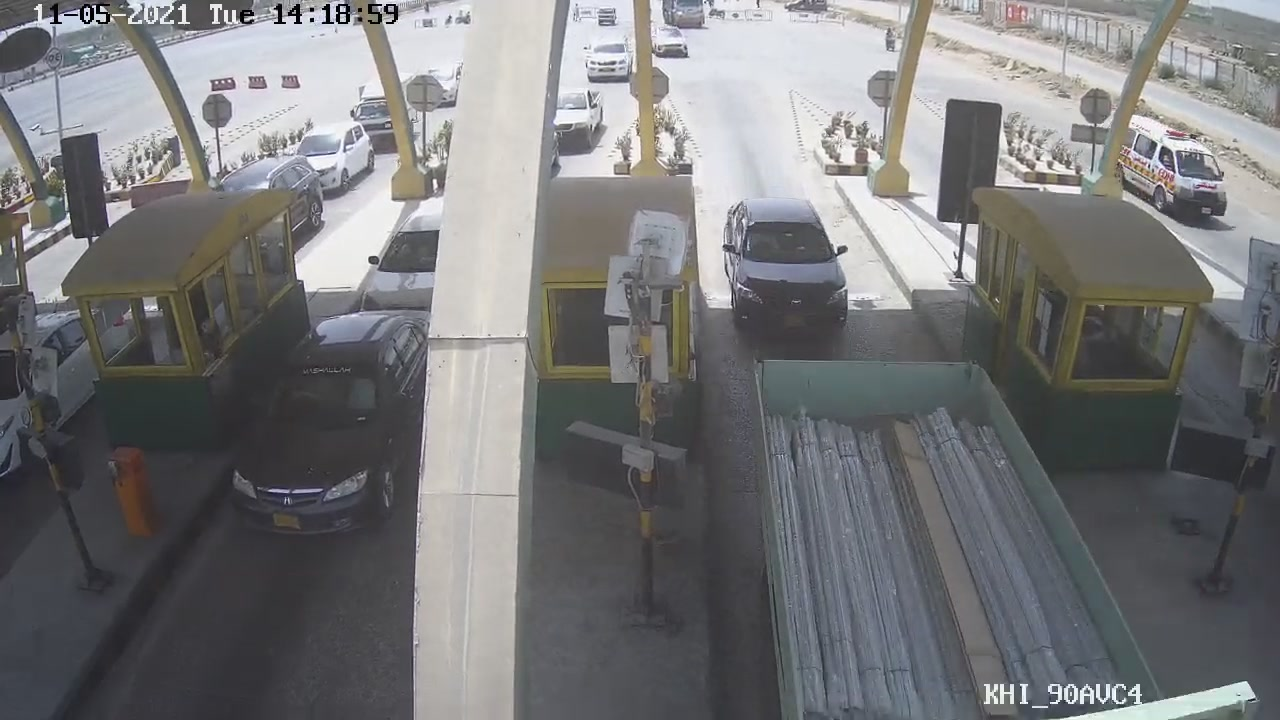F1: (717, 202, 854, 350)
